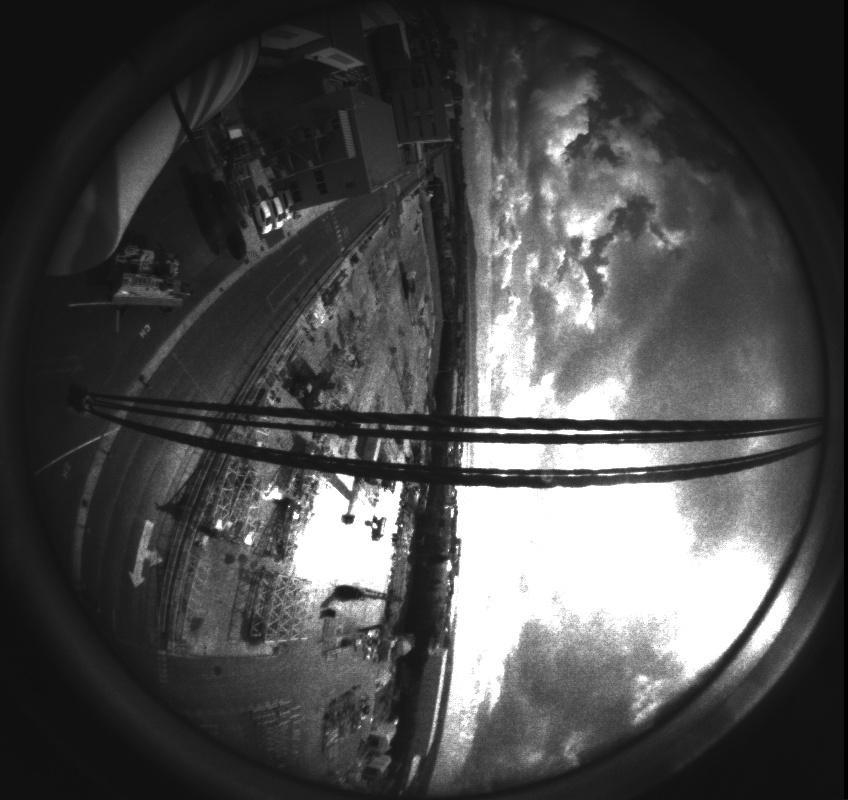rope: (9, 364, 839, 498)
